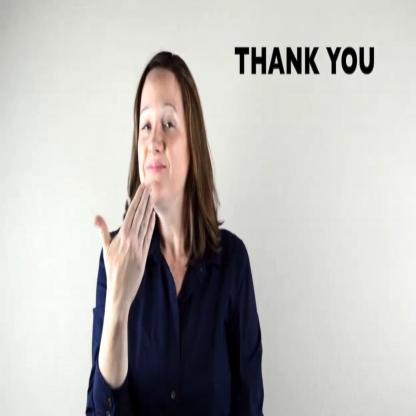ThankYou: (88, 47, 240, 324)
